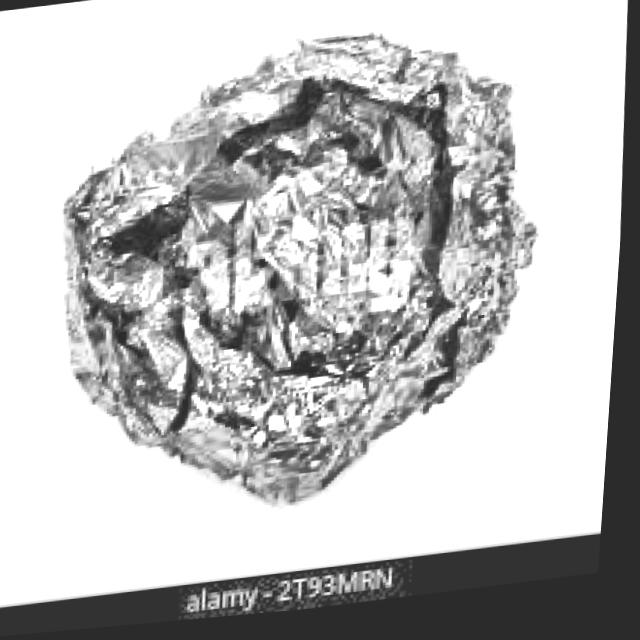Foil: (36, 6, 572, 551)
